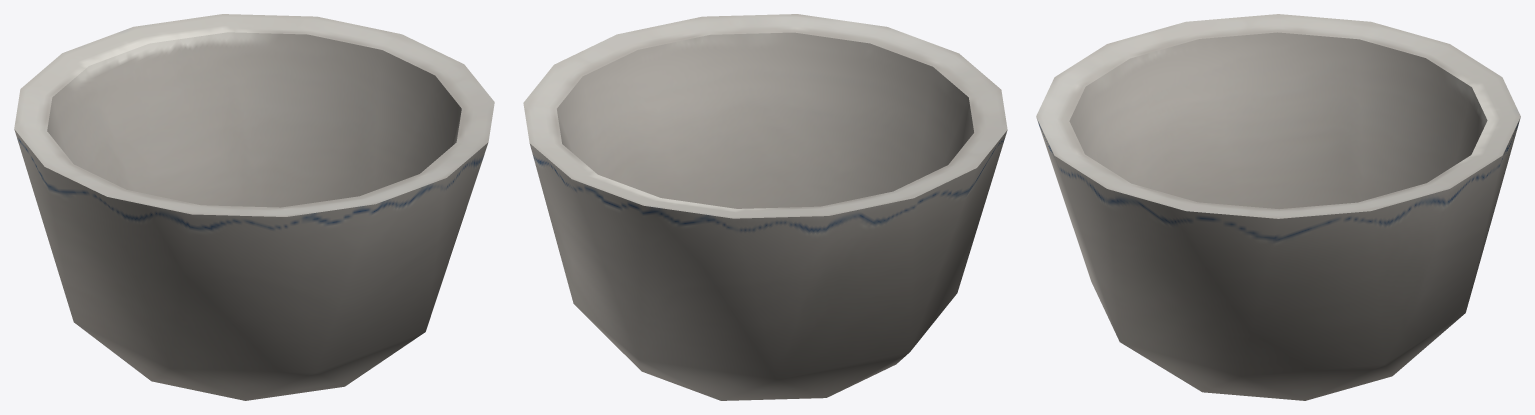
The model's file is friesbowlEmpty.fbx.
3 renders of one model, left to right at view 1: azimuth 30°, elevation 25°; view 2: azimuth 150°, elevation 25°; view 3: azimuth 270°, elevation 25°, orthographic.
Parts seen in each view (by area): view 1: friesbowlEmpty; view 2: friesbowlEmpty; view 3: friesbowlEmpty.
Boxes of the visible parts, x1,y1,x2,y2 form: friesbowlEmpty: [14, 14, 494, 400]; friesbowlEmpty: [523, 14, 1007, 400]; friesbowlEmpty: [1036, 14, 1520, 400].
Bounding box in the file's own units: 15.87 × 8.22 × 15.87.
